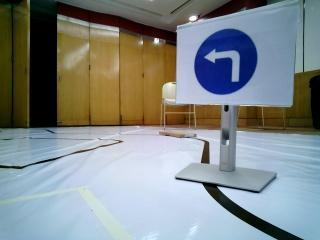left: (181, 23, 282, 106)
